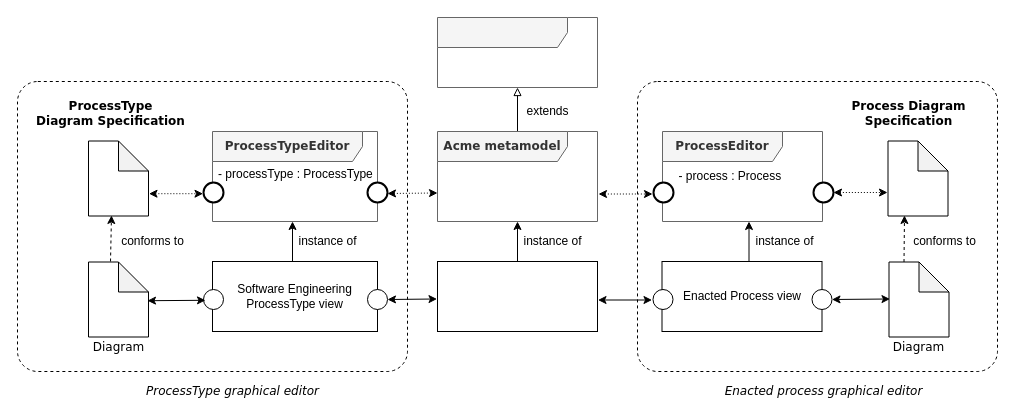
This 1015x419 diagram has some shape labels left out. The shapes that lost their labels are listed below. From the top down, each one's centre as x and y in pixels, then its label:
At point 517,52: "Base metamodel".
At point 517,296: "Acme model".
